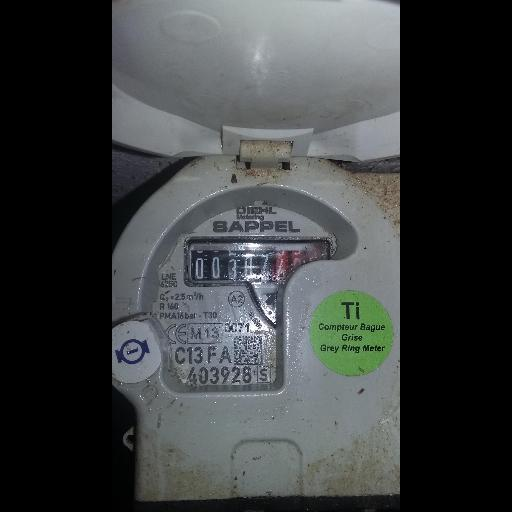0: (208, 249, 227, 281), (191, 251, 209, 282), (241, 249, 258, 281)
3: (225, 250, 242, 281)
6: (274, 250, 290, 284)
7: (258, 251, 275, 282)
border_water_meter_number: (184, 237, 333, 287)
